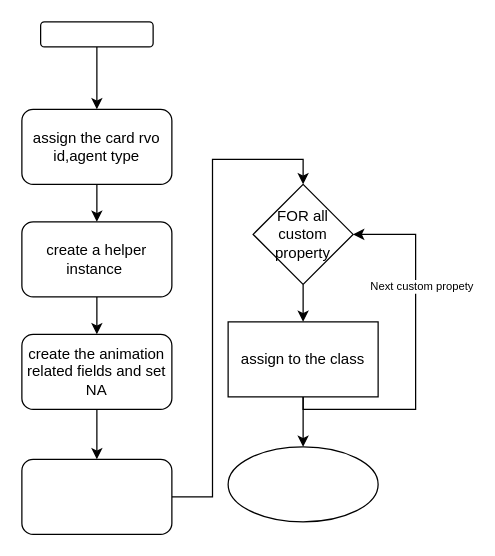
Some shapes in this 495 by 556 pixel diagram are drawn without their labels. The centre of each missing label's shape, as x and y in pixels:
"assign property" belongs at (96,496).
"end" belongs at (302,484).
"start" belongs at (96,34).
